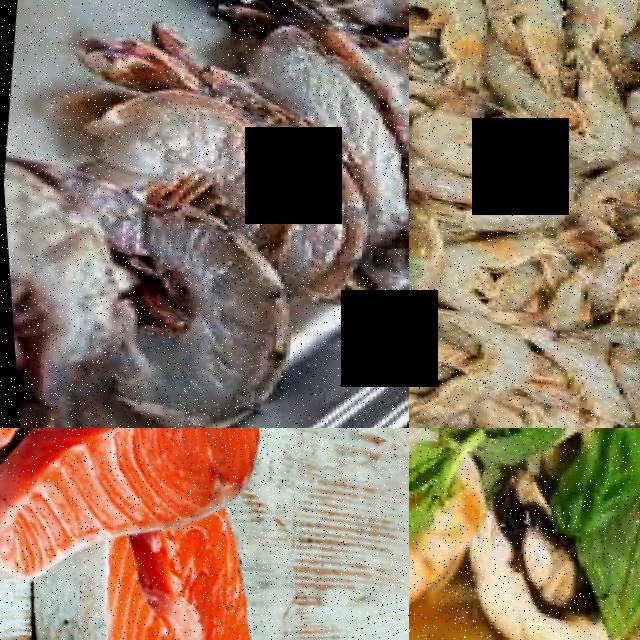salmon: (0, 528, 280, 640), (42, 428, 295, 520)
shrimp: (409, 101, 512, 181), (492, 140, 579, 233), (565, 56, 631, 157), (417, 0, 492, 78), (550, 310, 640, 368), (476, 0, 568, 55), (555, 0, 640, 58), (409, 313, 456, 395)
